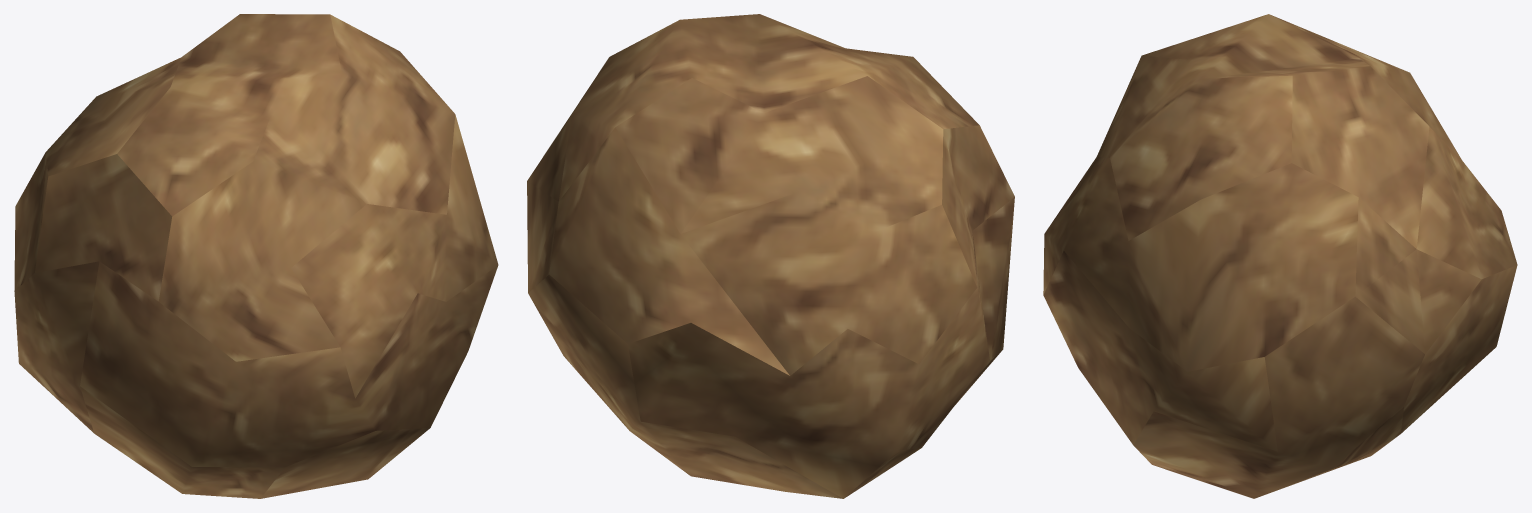
The model's file is Rock_l01.fbx.
3 renders of one model, left to right at view 1: azimuth 30°, elevation 25°; view 2: azimuth 150°, elevation 25°; view 3: azimuth 270°, elevation 25°, orthographic. The views are drawn at different scales.
Parts seen in each view (by area): view 1: Rock_l01; view 2: Rock_l01; view 3: Rock_l01.
Part boxes in pixels (bbox=[...]): Rock_l01: bbox=[14, 14, 498, 498]; Rock_l01: bbox=[527, 14, 1014, 498]; Rock_l01: bbox=[1043, 14, 1517, 498].
Size of the model in its own units: 2.67 by 2.47 by 2.62.
